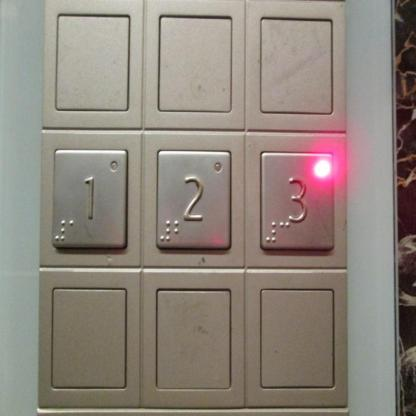1: (50, 146, 130, 253)
2: (153, 146, 233, 253)
3: (256, 148, 336, 254)
empty: (154, 10, 235, 116), (52, 9, 132, 116), (48, 283, 127, 391), (153, 285, 232, 393), (257, 284, 336, 392), (257, 13, 334, 116)
